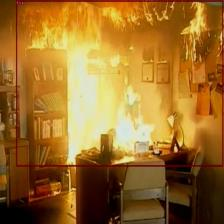fire: (16, 0, 223, 166)
